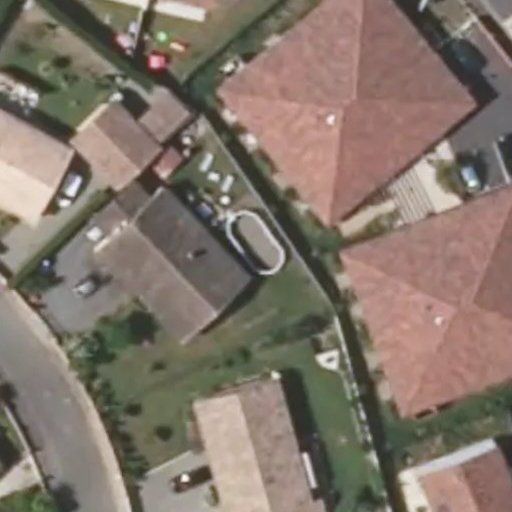pool: (225, 226, 285, 258)
